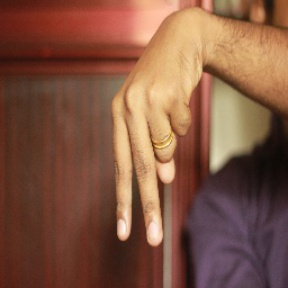Y: (105, 47, 201, 248)
